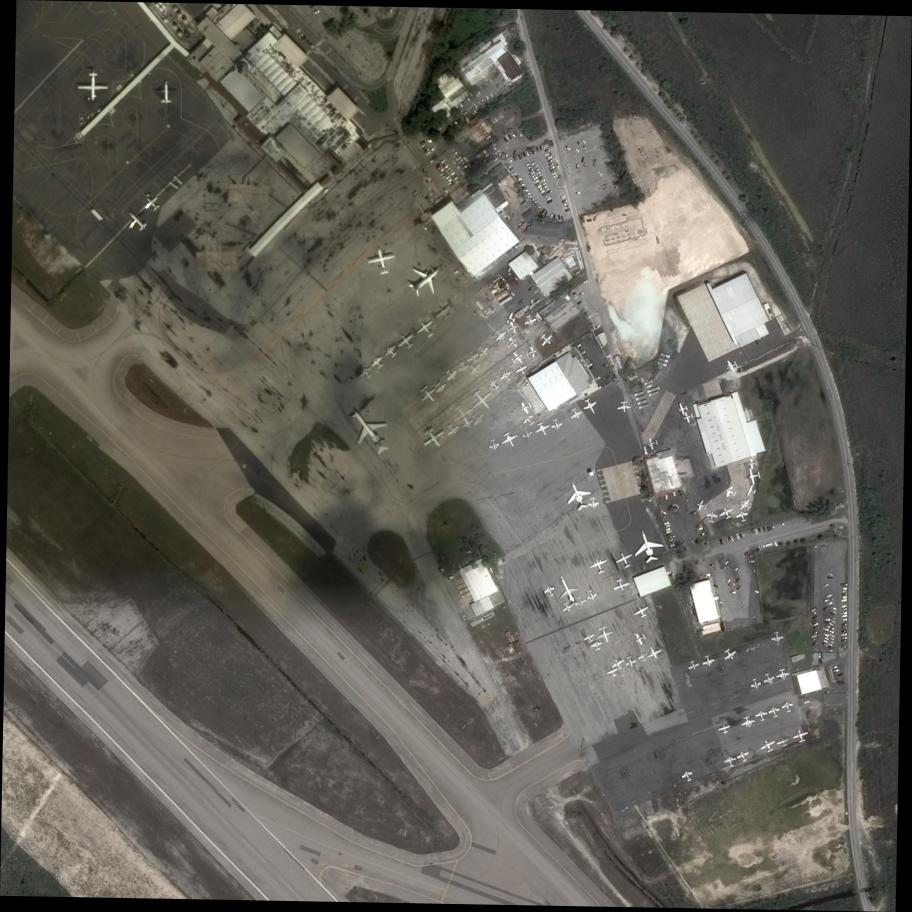large-vehicle: (173, 175, 184, 186), (168, 181, 180, 190), (647, 386, 660, 393), (637, 399, 648, 406), (636, 394, 646, 401), (638, 404, 649, 410), (634, 391, 644, 397), (649, 391, 659, 397), (644, 380, 653, 386), (659, 357, 668, 363), (658, 361, 667, 367), (661, 353, 671, 358)
plane: (341, 398, 399, 461), (401, 256, 449, 304), (627, 525, 667, 567), (561, 477, 595, 514), (552, 571, 584, 610), (366, 244, 398, 277), (466, 384, 498, 416), (122, 206, 152, 236), (78, 72, 109, 101), (419, 424, 449, 453), (448, 400, 477, 426), (414, 317, 439, 342), (154, 78, 178, 104), (417, 383, 441, 406), (395, 330, 418, 352), (613, 549, 636, 571), (499, 429, 521, 450), (432, 302, 454, 323), (642, 642, 664, 663), (142, 193, 163, 214), (580, 396, 601, 417), (594, 625, 616, 645), (588, 556, 610, 576), (533, 420, 553, 439), (758, 737, 778, 755), (382, 342, 400, 361), (537, 330, 555, 349), (720, 646, 739, 664), (632, 603, 652, 620), (611, 577, 631, 594), (466, 360, 484, 378), (369, 354, 387, 372), (746, 466, 762, 486), (442, 367, 460, 384), (509, 349, 526, 367), (791, 728, 810, 744), (444, 421, 461, 438), (359, 364, 376, 381), (492, 327, 509, 344), (737, 496, 754, 513), (724, 357, 740, 374), (470, 410, 486, 427), (459, 415, 476, 431), (518, 399, 534, 416), (568, 405, 585, 421), (723, 483, 739, 500), (718, 506, 736, 521), (475, 343, 491, 359), (521, 412, 537, 428), (504, 335, 520, 351), (542, 583, 558, 599), (722, 753, 739, 768), (487, 376, 502, 393), (633, 630, 648, 647), (610, 657, 627, 672), (700, 653, 717, 668), (739, 715, 757, 729), (433, 380, 449, 395), (465, 350, 481, 365), (761, 671, 777, 686), (754, 708, 769, 723), (486, 438, 502, 452), (505, 320, 519, 336), (775, 667, 791, 681), (560, 600, 576, 614), (572, 594, 588, 608), (780, 700, 795, 714), (680, 769, 695, 783), (736, 750, 751, 764), (767, 705, 782, 719), (456, 359, 471, 373), (499, 370, 514, 384), (504, 311, 518, 326), (749, 676, 763, 691), (584, 588, 599, 602), (524, 345, 538, 360), (744, 483, 758, 498), (776, 736, 792, 749), (575, 736, 589, 750), (451, 358, 465, 372), (695, 499, 709, 513), (717, 722, 732, 735), (523, 314, 538, 327), (514, 364, 529, 377), (549, 418, 564, 431), (605, 666, 620, 679), (686, 659, 701, 672), (646, 436, 659, 451), (677, 401, 690, 416), (735, 510, 750, 523), (520, 427, 534, 440), (624, 655, 638, 668), (682, 410, 695, 424), (617, 401, 632, 413), (582, 632, 597, 644), (770, 631, 785, 643), (590, 640, 604, 652), (637, 651, 650, 663), (587, 497, 599, 509), (706, 511, 719, 522), (748, 458, 758, 469)
small-vehicle: (430, 155, 438, 164), (762, 542, 774, 548), (438, 167, 445, 175), (455, 155, 462, 162), (440, 170, 447, 177), (472, 102, 479, 109), (494, 148, 501, 155), (554, 157, 561, 164), (574, 146, 581, 153), (822, 626, 830, 632), (824, 593, 832, 599), (803, 699, 811, 705), (666, 535, 675, 540), (457, 158, 464, 164), (445, 166, 452, 172), (449, 171, 456, 177), (444, 175, 451, 181), (445, 178, 452, 184), (459, 169, 465, 176), (485, 134, 492, 140), (535, 170, 542, 176), (546, 189, 553, 195), (530, 173, 537, 179), (504, 134, 510, 141), (508, 157, 514, 164), (533, 179, 540, 185), (831, 605, 838, 611), (823, 632, 830, 638), (821, 641, 828, 647), (827, 642, 834, 648), (753, 589, 760, 595), (810, 607, 817, 613), (313, 9, 320, 15), (496, 181, 502, 188), (488, 566, 494, 573), (548, 212, 554, 219), (508, 167, 515, 173), (597, 171, 604, 177), (586, 362, 593, 368), (545, 155, 553, 160), (689, 511, 697, 516), (696, 527, 704, 532), (440, 159, 446, 165), (447, 169, 453, 175), (443, 173, 449, 179), (489, 92, 495, 98), (480, 98, 486, 104), (472, 109, 478, 115), (470, 111, 476, 117), (827, 601, 833, 607), (828, 622, 834, 628), (443, 188, 449, 194), (420, 143, 426, 149), (565, 145, 571, 151), (540, 208, 546, 214), (581, 139, 587, 145), (724, 560, 730, 566), (550, 171, 557, 176), (551, 174, 558, 179), (533, 167, 540, 172), (528, 171, 535, 176), (548, 165, 555, 170), (547, 162, 554, 167), (507, 134, 512, 141), (517, 153, 522, 160), (525, 150, 530, 157), (811, 634, 818, 639), (536, 184, 543, 189), (822, 583, 829, 588), (841, 595, 848, 600), (841, 598, 848, 603), (841, 607, 848, 612), (719, 538, 724, 545), (695, 524, 702, 529), (660, 510, 667, 515), (500, 151, 505, 158), (757, 544, 762, 551), (546, 199, 553, 204), (561, 199, 568, 204), (773, 540, 778, 547), (735, 533, 740, 540), (594, 376, 601, 381), (594, 324, 601, 329), (840, 604, 848, 608), (840, 633, 848, 637), (839, 644, 847, 648), (511, 172, 519, 176), (456, 164, 461, 170), (442, 162, 448, 167), (425, 151, 431, 156), (550, 168, 556, 173), (525, 162, 531, 167), (530, 161, 536, 166), (533, 164, 539, 169), (537, 173, 543, 178), (538, 176, 544, 181), (540, 178, 546, 183), (541, 181, 547, 186), (514, 154, 519, 160), (511, 132, 516, 138), (518, 132, 523, 138), (518, 124, 524, 129), (512, 155, 517, 161), (520, 152, 525, 158), (534, 182, 540, 187), (812, 640, 817, 646), (831, 609, 837, 614), (830, 619, 836, 624), (829, 629, 835, 634), (824, 636, 830, 641), (828, 639, 834, 644), (829, 636, 835, 641), (812, 631, 818, 636), (813, 622, 819, 627), (735, 577, 740, 583), (589, 365, 595, 370), (730, 583, 736, 588), (728, 581, 733, 587), (422, 146, 428, 151), (424, 148, 430, 153), (581, 307, 586, 313), (579, 292, 585, 297), (540, 189, 545, 195), (560, 195, 566, 200), (544, 210, 549, 216), (733, 567, 739, 572), (510, 291, 515, 297), (576, 300, 582, 305), (583, 311, 589, 316), (586, 315, 592, 320), (528, 286, 534, 291), (576, 343, 582, 348), (546, 159, 553, 163), (532, 147, 536, 154), (536, 146, 540, 153), (822, 607, 829, 611), (827, 572, 834, 576), (663, 521, 670, 525), (664, 524, 671, 528), (665, 530, 672, 534), (841, 614, 848, 618), (531, 198, 538, 202), (558, 238, 565, 242), (562, 205, 569, 209), (552, 213, 556, 220), (730, 535, 734, 542), (768, 524, 772, 531), (747, 554, 754, 558), (575, 191, 582, 195), (444, 164, 449, 169), (452, 160, 457, 165), (496, 83, 501, 88), (485, 95, 490, 100), (477, 101, 482, 106), (527, 165, 532, 170), (528, 167, 533, 172), (533, 176, 538, 181), (823, 639, 828, 644), (812, 615, 817, 620), (812, 620, 817, 625), (830, 633, 835, 638), (578, 346, 583, 351), (726, 578, 731, 583), (576, 141, 581, 146), (582, 145, 587, 150), (538, 187, 543, 192), (542, 192, 547, 197), (546, 197, 551, 202), (744, 551, 749, 556), (572, 291, 577, 296), (580, 350, 585, 355), (544, 188, 550, 192), (512, 150, 516, 156), (523, 151, 527, 157), (545, 152, 551, 156), (840, 583, 848, 586), (840, 587, 848, 590), (672, 491, 676, 497), (665, 527, 671, 531), (661, 514, 667, 518), (842, 611, 848, 615), (841, 636, 847, 640), (828, 648, 834, 652), (556, 164, 560, 170), (419, 141, 425, 145), (513, 175, 519, 179), (561, 203, 567, 207), (564, 208, 570, 212), (561, 215, 565, 221), (733, 535, 737, 541), (721, 566, 727, 570), (593, 215, 597, 221), (582, 280, 588, 284), (824, 618, 831, 621), (729, 591, 736, 594), (841, 593, 848, 596), (823, 621, 830, 624), (665, 494, 668, 501), (840, 639, 847, 642), (581, 156, 584, 163), (755, 528, 758, 535), (593, 159, 596, 166), (543, 185, 548, 189), (543, 144, 547, 149), (831, 616, 836, 620), (812, 637, 816, 642), (713, 584, 718, 588), (737, 585, 741, 590), (834, 669, 839, 673), (543, 195, 548, 199), (557, 215, 561, 220), (739, 533, 743, 538), (741, 533, 745, 538), (574, 295, 578, 300), (539, 145, 542, 151), (827, 577, 833, 580), (824, 599, 830, 602), (841, 590, 847, 593), (603, 364, 609, 367), (668, 539, 674, 542), (841, 626, 847, 629), (841, 630, 847, 633), (818, 653, 821, 659), (832, 666, 838, 669), (523, 189, 529, 192), (525, 192, 531, 195), (527, 195, 533, 198), (567, 162, 570, 168), (518, 181, 524, 184), (517, 178, 523, 181), (758, 527, 761, 533), (749, 560, 755, 563), (728, 536, 731, 542), (601, 184, 607, 187), (431, 147, 435, 151), (781, 522, 785, 526), (842, 618, 847, 621), (521, 183, 526, 186), (521, 186, 526, 189), (751, 529, 754, 534), (772, 524, 775, 529), (583, 162, 586, 167), (841, 624, 847, 626), (534, 202, 540, 204), (763, 526, 765, 532), (767, 526, 769, 532), (826, 626, 831, 628), (576, 164, 578, 169), (587, 220, 592, 222)
